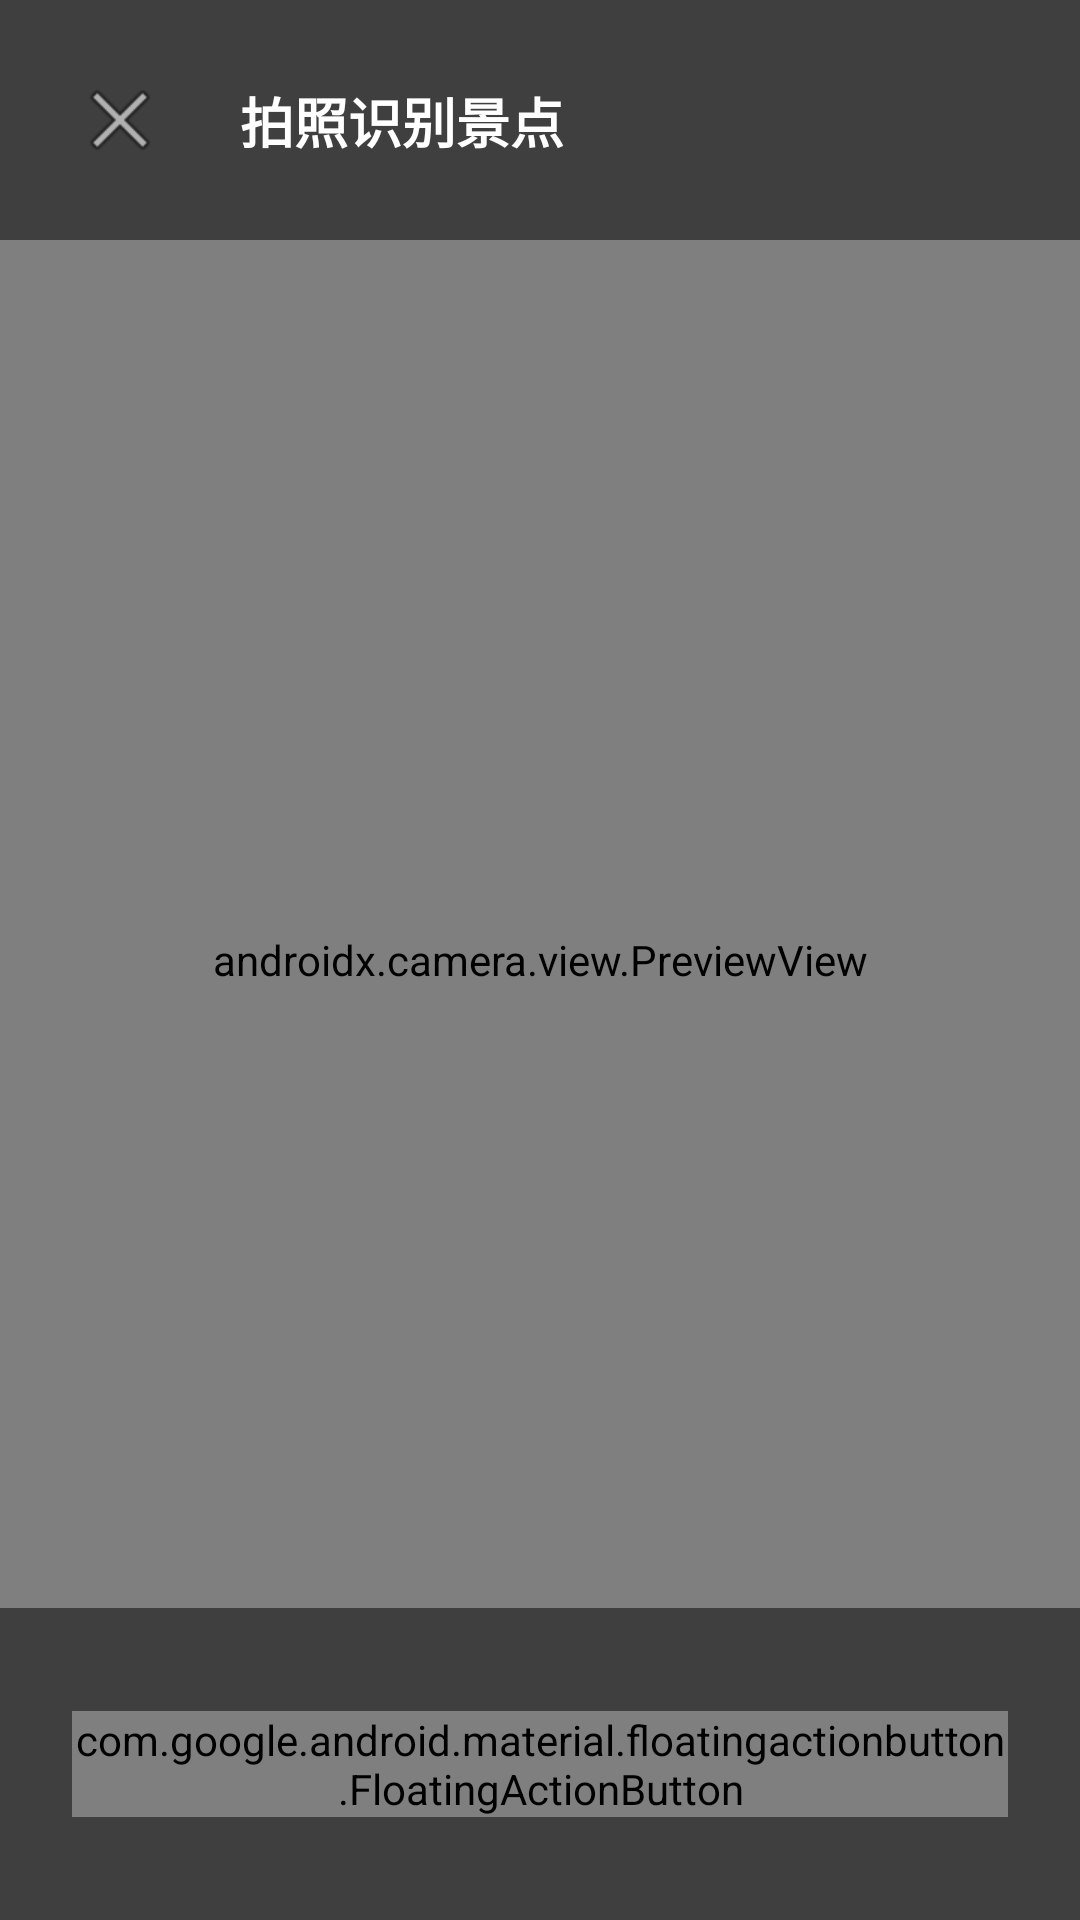

Icon click points for this 1080 x 1920 phone screenshot, format point (x, y):
关闭: point (120, 120)
